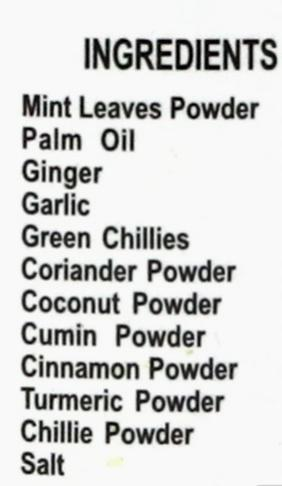ingredients: (8, 31, 271, 475)
